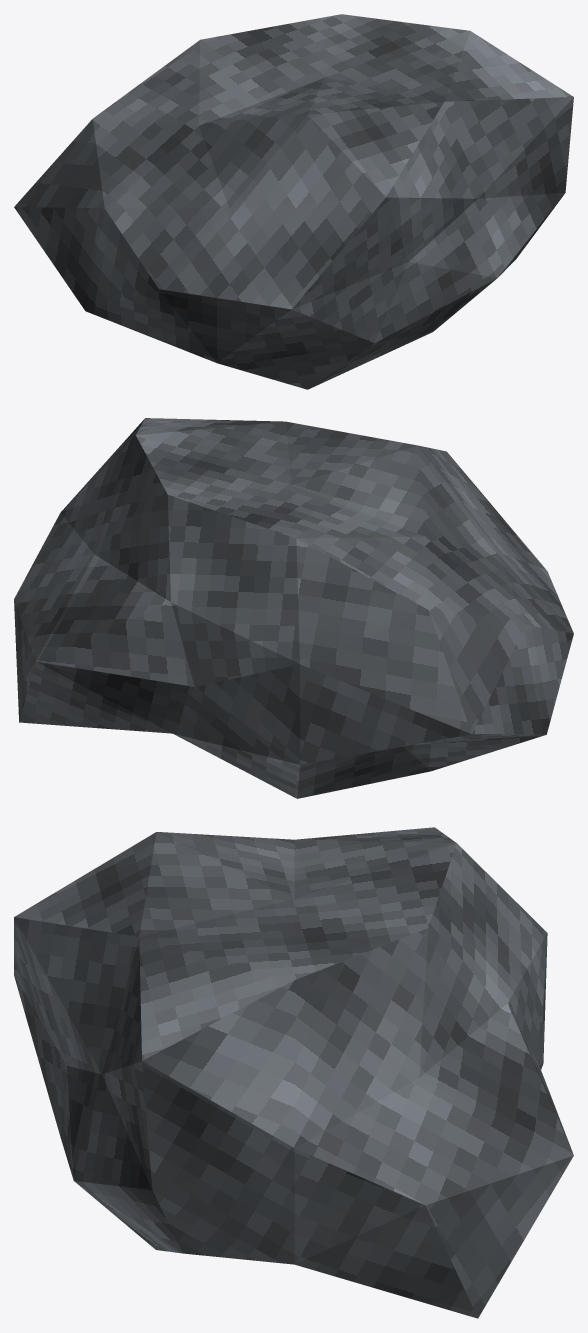
File: Astreroid_9.fbx
3 renders of one model, top to bottom at view 1: azimuth 30°, elevation 25°; view 2: azimuth 150°, elevation 25°; view 3: azimuth 270°, elevation 25°, orthographic. The views are drawn at different scales.
Parts seen in each view (by area): view 1: Asteroid_LowPoly; view 2: Asteroid_LowPoly; view 3: Asteroid_LowPoly.
Part boxes in pixels (x1,y1,x2,y2): Asteroid_LowPoly: [14, 14, 573, 389]; Asteroid_LowPoly: [14, 418, 573, 798]; Asteroid_LowPoly: [14, 827, 573, 1318].
Bounding box in the file's own units: 505 × 293 × 396.
